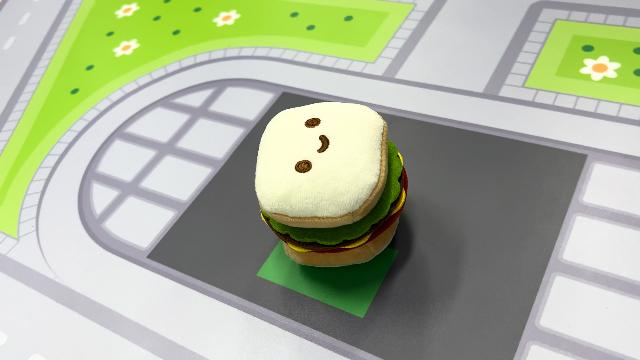sandwich: (252, 99, 410, 268)
